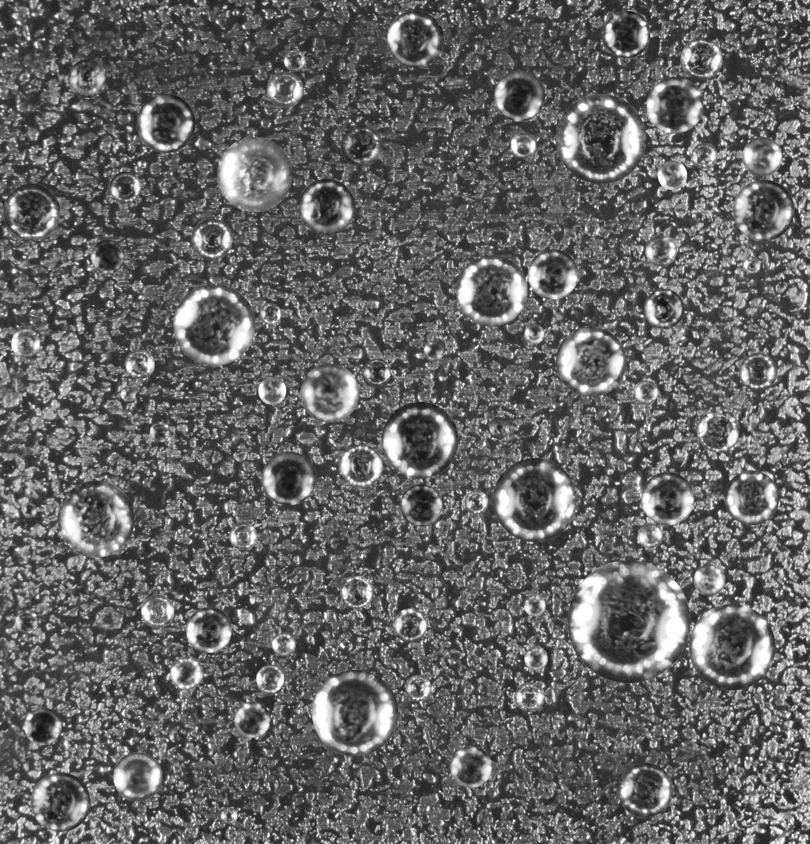Bubble: (567, 560, 690, 683), (556, 93, 646, 183), (312, 669, 398, 756), (689, 604, 775, 690), (493, 458, 576, 541), (173, 283, 255, 365), (57, 480, 134, 557), (381, 401, 458, 478), (217, 137, 292, 211), (456, 254, 527, 326), (556, 326, 626, 396), (733, 179, 794, 240), (300, 363, 359, 422), (136, 93, 195, 152), (31, 772, 90, 831), (646, 76, 703, 133), (3, 183, 60, 240), (386, 10, 443, 67), (298, 178, 354, 234), (724, 470, 779, 525), (618, 762, 672, 817), (262, 451, 315, 505), (641, 472, 694, 525), (494, 70, 545, 121), (528, 249, 578, 299), (113, 752, 162, 801), (603, 10, 650, 57), (186, 607, 231, 652), (340, 444, 382, 487), (400, 484, 442, 526), (680, 37, 722, 79), (697, 410, 739, 452), (450, 746, 492, 787), (191, 218, 232, 260), (341, 124, 382, 166), (644, 288, 684, 328), (742, 136, 782, 176), (739, 353, 777, 391), (68, 59, 106, 97), (24, 708, 61, 745), (266, 71, 303, 107), (234, 701, 270, 737), (393, 608, 427, 642), (90, 239, 124, 273), (141, 594, 174, 628), (170, 656, 203, 689), (340, 575, 372, 608), (693, 564, 725, 595), (109, 171, 140, 203), (645, 235, 676, 266), (657, 160, 687, 189), (515, 682, 544, 712), (125, 349, 154, 379), (256, 664, 284, 692), (11, 329, 39, 357), (258, 376, 286, 404), (229, 522, 257, 550), (363, 358, 390, 386), (691, 142, 717, 168), (405, 675, 431, 701), (510, 132, 536, 157), (638, 523, 662, 548), (271, 632, 295, 656), (464, 490, 488, 514), (524, 646, 547, 670), (634, 380, 657, 404), (15, 610, 38, 633), (488, 416, 510, 438), (523, 594, 545, 616), (283, 49, 305, 71), (259, 303, 281, 324), (423, 340, 444, 361), (149, 421, 170, 442), (524, 323, 544, 344), (220, 807, 237, 824), (743, 256, 760, 273), (584, 220, 600, 236), (120, 386, 135, 401), (22, 503, 36, 517), (762, 771, 775, 785)
